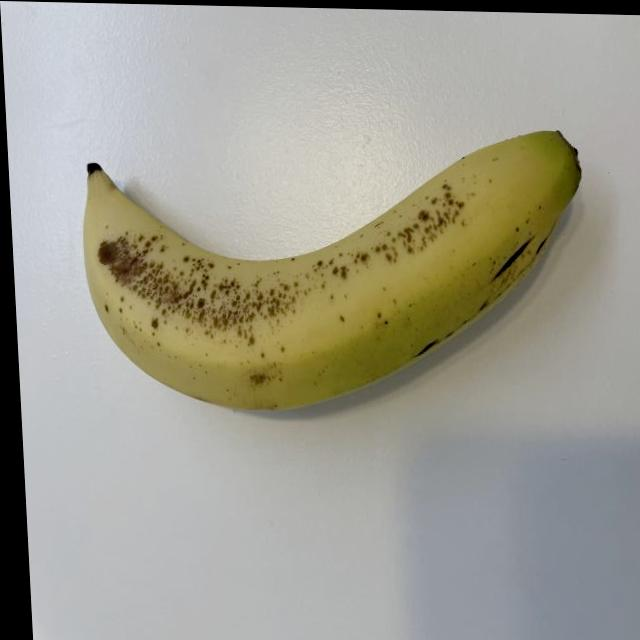banana: (70, 103, 604, 424)
